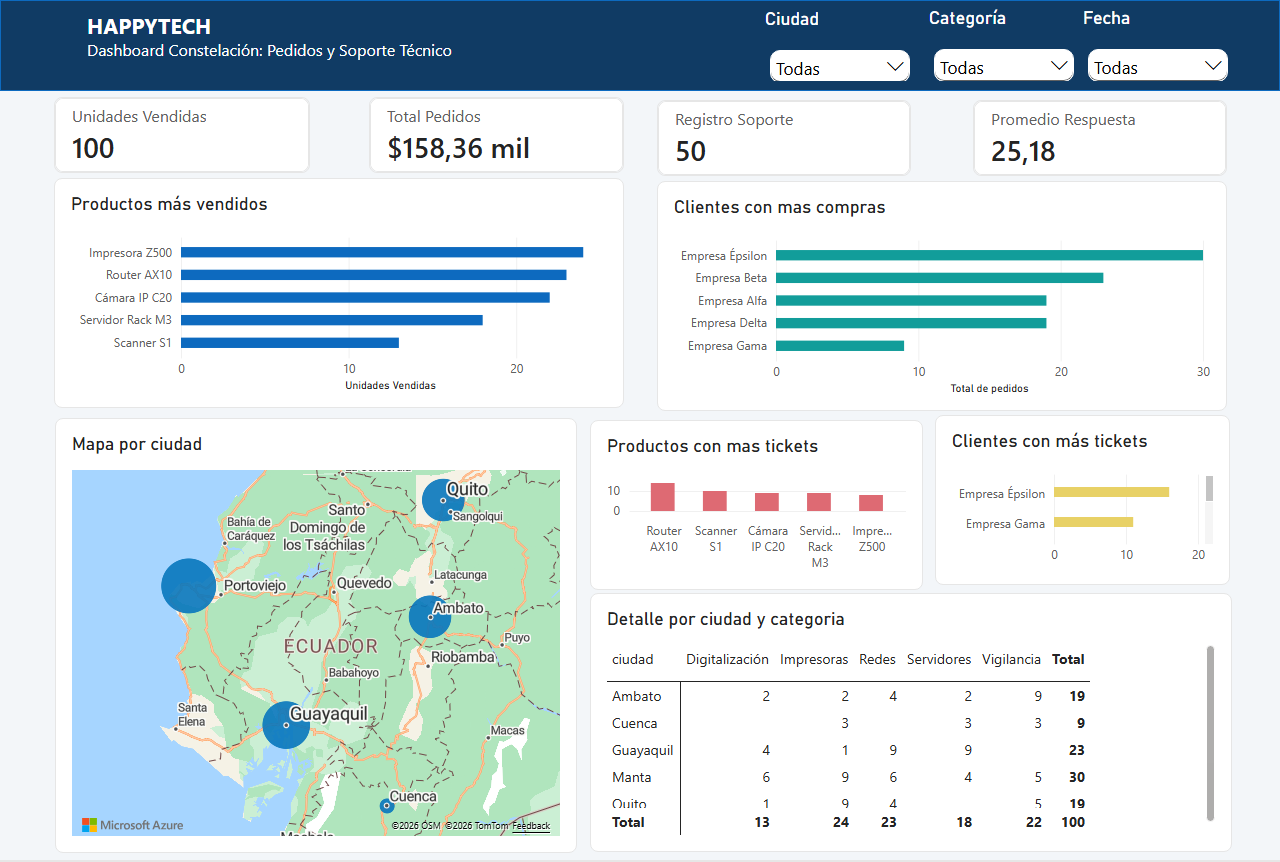

Layout of this report page (visuals, bound fields, positions):
{"tool":"powerbi","page":{"name":"Page 1","canvas":[1280,860],"ordinal":0},"visuals":[{"type":"shape","box":[0,0,1280,91.4],"z":0},{"type":"textbox","box":[86.7,11.4,659.3,58.3],"z":1000},{"type":"slicer","title":"Ciudad","fields":{"Values":["happytech_dw dim_ciudad.ciudad"]},"box":[765,7.5,150,73.8],"z":2000},{"type":"slicer","title":"Categoría","fields":{"Values":["happytech_dw dim_producto.categoria"]},"box":[929,7.1,150,73.8],"z":3000},{"type":"slicer","title":"Fecha","fields":{"Values":["happytech_dw dim_fecha.fecha"]},"box":[1083,7.1,150,73.8],"z":4000},{"type":"cardVisual","fields":{"Data":["happytech_dw fact_pedidos.Unidades Vendidas"]},"box":[54.3,97.1,255.7,75.7],"z":5000},{"type":"cardVisual","fields":{"Data":["happytech_dw fact_pedidos.Total Pedidos"]},"box":[368.6,97.1,255.7,75.7],"z":6000},{"type":"cardVisual","fields":{"Data":["happytech_dw fact_soporte.Registro Soporte"]},"box":[657,99.8,254.3,75.7],"z":7000},{"type":"cardVisual","fields":{"Data":["happytech_dw fact_soporte.Promedio Respuesta"]},"box":[972.8,99.8,254.3,75.7],"z":8000},{"type":"clusteredBarChart","title":"Productos más vendidos","fields":{"Category":["happytech_dw dim_producto.producto"],"Y":["happytech_dw fact_pedidos.Unidades Vendidas"]},"box":[54.3,178.1,570,230],"z":9000},{"type":"clusteredBarChart","title":"Clientes con mas compras","fields":{"Category":["happytech_dw dim_cliente.cliente"],"Y":["happytech_dw fact_pedidos.Unidades Vendidas"]},"box":[657,180.8,570,230],"z":10000},{"type":"azureMap","title":"Mapa por ciudad","fields":{"Category":["happytech_dw dim_ciudad.Ubicacion Mapa"],"Size":["happytech_dw fact_pedidos.Unidades Vendidas"]},"box":[55,418.3,521.7,435],"z":11000},{"type":"clusteredColumnChart","title":"Productos con mas tickets","fields":{"Category":["happytech_dw dim_producto.producto"],"Y":["happytech_dw fact_soporte.Registro Soporte"]},"box":[590,420,333.3,170],"z":12000},{"type":"barChart","title":"Clientes con más tickets","fields":{"Category":["happytech_dw dim_cliente.cliente"],"Y":["happytech_dw fact_soporte.Registro Soporte"]},"box":[935,415,295,170],"z":13000},{"type":"pivotTable","title":"Detalle por ciudad y categoria","fields":{"Columns":["happytech_dw dim_producto.categoria"],"Rows":["happytech_dw dim_ciudad.ciudad"],"Values":["happytech_dw fact_pedidos.Unidades Vendidas"]},"box":[590,593.3,641.7,258.3],"z":14000}]}

Visuals, with their boxes in screenshot pixels (x1, y1, x2, y2), scaled from the page's 1280x860 canvas onto the 1280x862 screenshot:
shape: pyautogui.locateOnScreen(0, 0, 1279, 92)
textbox: pyautogui.locateOnScreen(87, 11, 746, 70)
"Ciudad" slicer: pyautogui.locateOnScreen(765, 8, 915, 81)
"Categoría" slicer: pyautogui.locateOnScreen(929, 7, 1079, 81)
"Fecha" slicer: pyautogui.locateOnScreen(1083, 7, 1233, 81)
cardVisual - happytech_dw fact_pedidos.Unidades Vendidas: pyautogui.locateOnScreen(54, 97, 310, 173)
cardVisual - happytech_dw fact_pedidos.Total Pedidos: pyautogui.locateOnScreen(369, 97, 624, 173)
cardVisual - happytech_dw fact_soporte.Registro Soporte: pyautogui.locateOnScreen(657, 100, 911, 176)
cardVisual - happytech_dw fact_soporte.Promedio Respuesta: pyautogui.locateOnScreen(973, 100, 1227, 176)
"Productos más vendidos" clusteredBarChart: pyautogui.locateOnScreen(54, 179, 624, 409)
"Clientes con mas compras" clusteredBarChart: pyautogui.locateOnScreen(657, 181, 1227, 412)
"Mapa por ciudad" azureMap: pyautogui.locateOnScreen(55, 419, 577, 855)
"Productos con mas tickets" clusteredColumnChart: pyautogui.locateOnScreen(590, 421, 923, 591)
"Clientes con más tickets" barChart: pyautogui.locateOnScreen(935, 416, 1230, 586)
"Detalle por ciudad y categoria" pivotTable: pyautogui.locateOnScreen(590, 595, 1232, 854)
